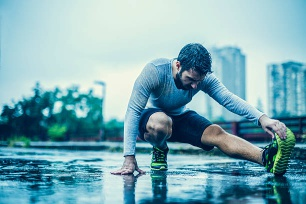male: (172, 47, 210, 94)
